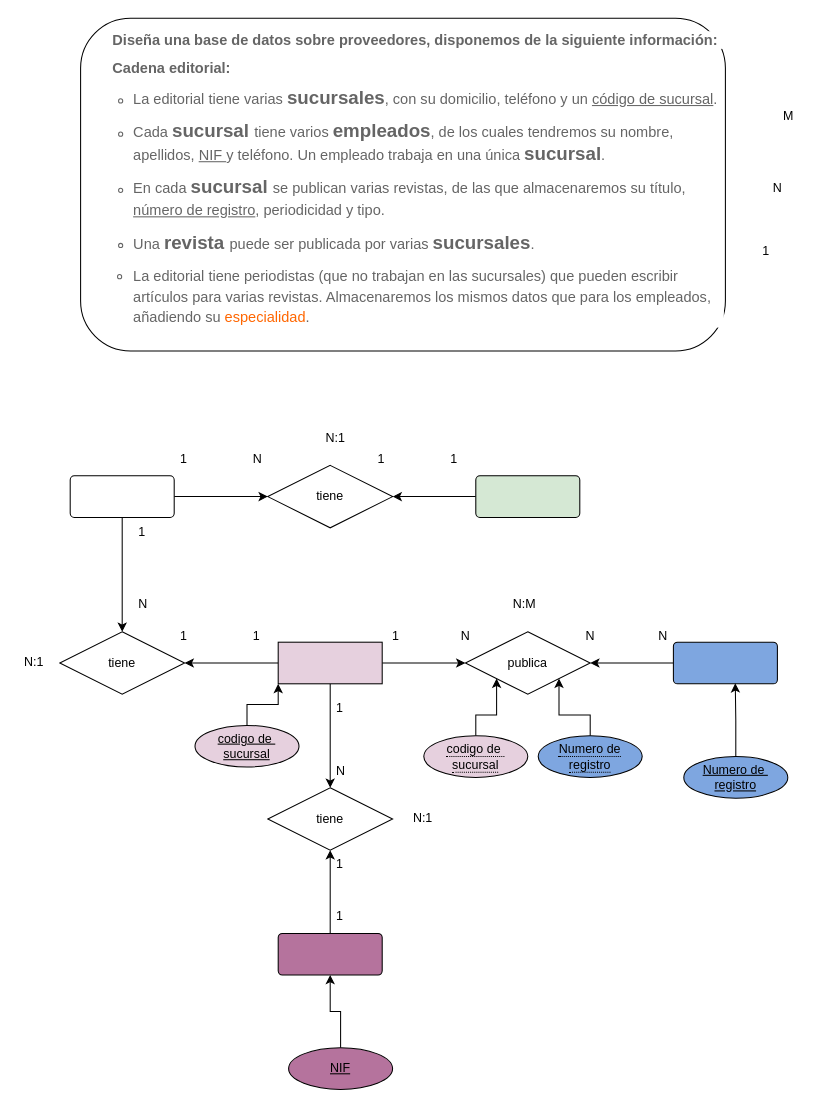
The diagram is 836 pixels wide and 1108 high, and some of its shapes have lost their labels. Each missing label, with the centre of its shape:
"editorial" goes at [121,496].
"empleados" goes at [329,953].
"Periodistas" goes at [527,496].
"revista" goes at [724,662].
"sucursal" goes at [329,662].
